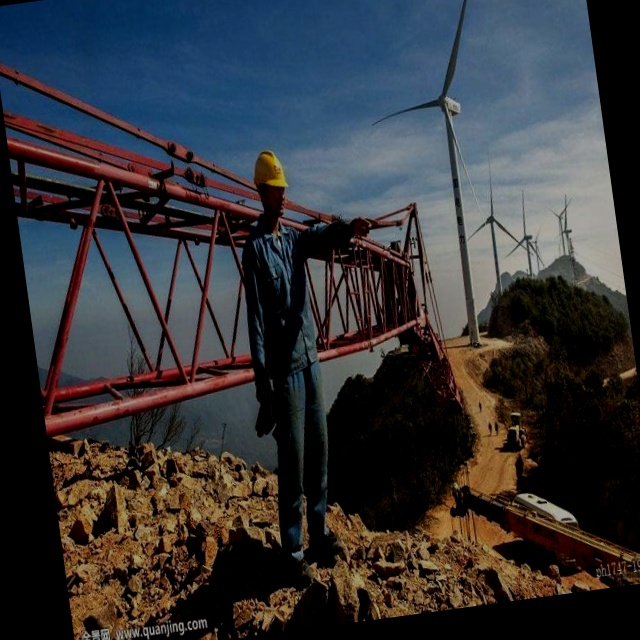Con_Casco: (252, 150, 291, 220)
